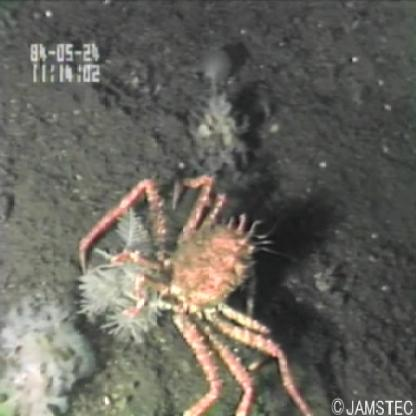Bio: (73, 170, 318, 416)
